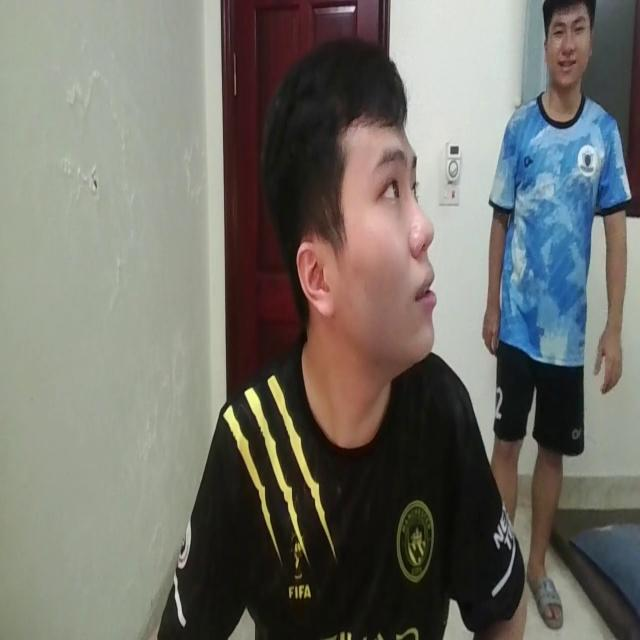extra_person: (482, 0, 632, 640)
student: (124, 44, 528, 640)
